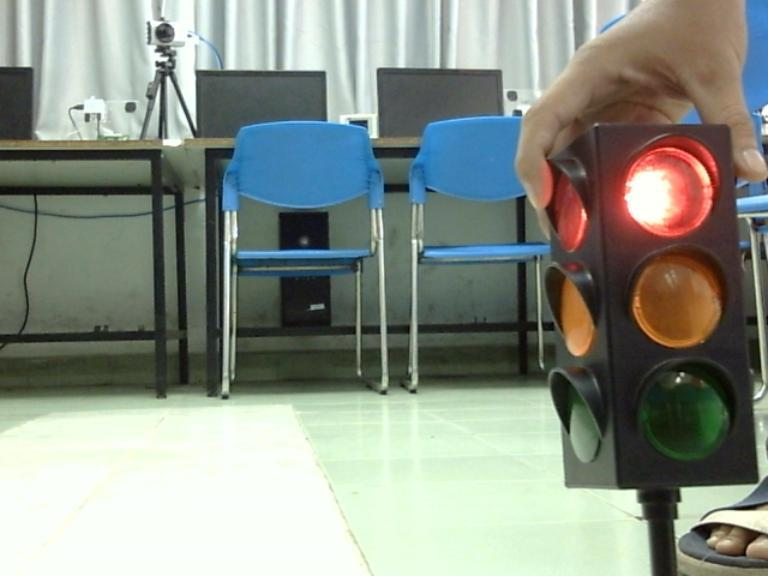red: (610, 129, 735, 241)
